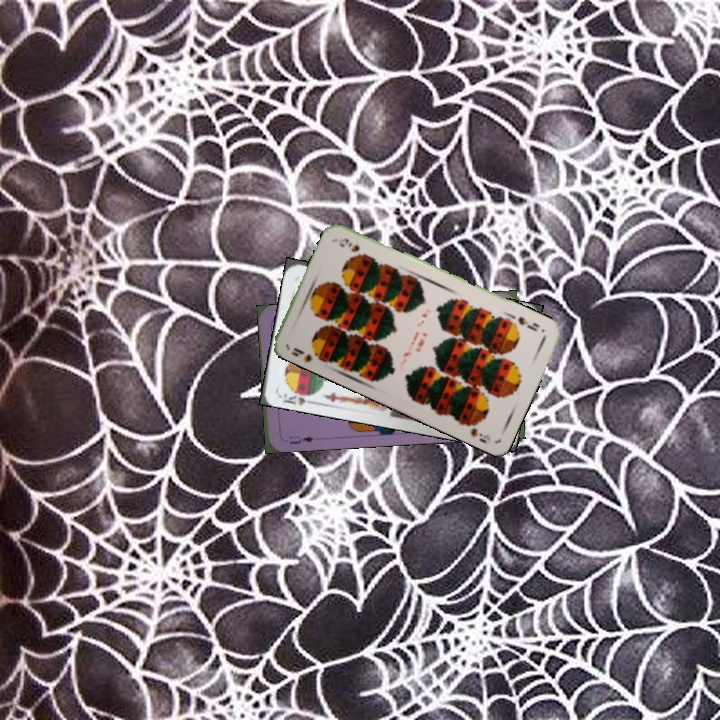EU: (285, 432, 317, 447)
S9: (287, 343, 324, 365), (514, 312, 542, 334)
SK: (279, 384, 318, 407)
